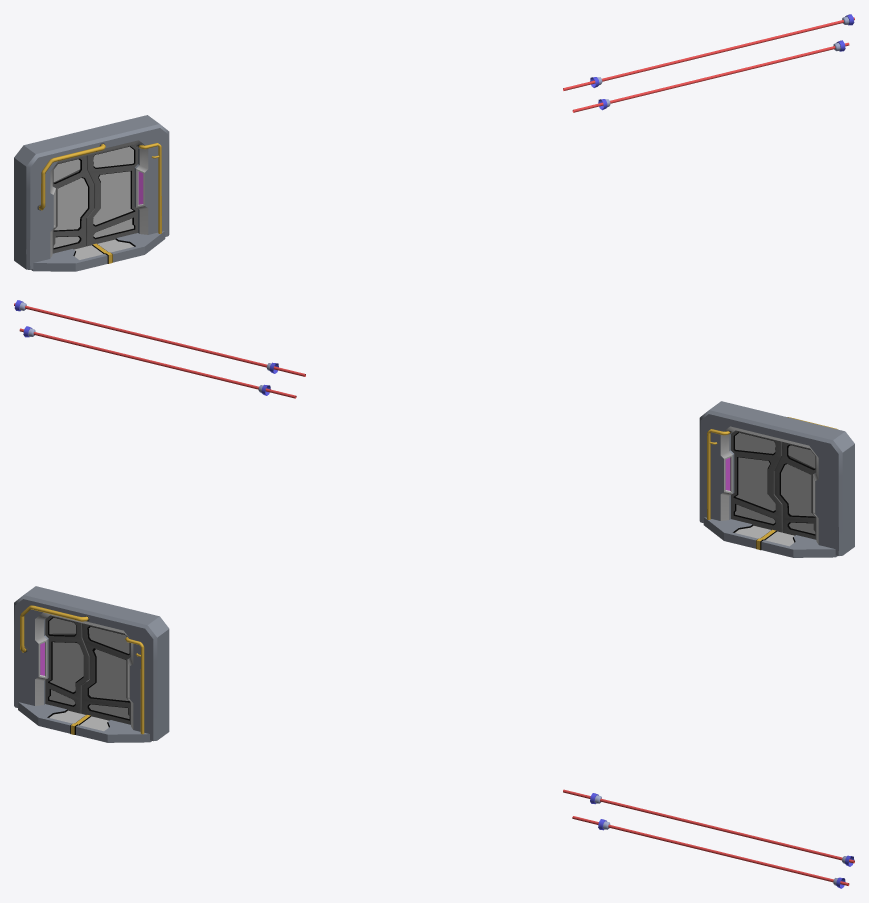
The model's file is Level23_Objects.fbx.
3 renders of one model, top to bottom at view 1: azimuth 30°, elevation 25°; view 2: azimuth 150°, elevation 25°; view 3: azimuth 330°, elevation 25°, orthographic.
Visible parts, largest first — view 1: Base, Right, Left, Base5, Laser (×2), polySurface7; view 2: Base, Right, Left, Base5, Laser (×2); view 3: Base, Right, Left, Base5, Laser (×2).
Part boxes in pixels (left/top/right/bottom): Base: left=14, top=115, right=169, bottom=269; Right: left=86, top=144, right=137, bottom=246; Left: left=52, top=155, right=94, bottom=253; Base5: left=31, top=231, right=165, bottom=271; Laser (×2): left=563, top=17, right=854, bottom=112; polySurface7: left=37, top=143, right=105, bottom=210; Base: left=699, top=401, right=854, bottom=555; Right: left=731, top=430, right=782, bottom=532; Left: left=774, top=441, right=816, bottom=539; Base5: left=703, top=517, right=837, bottom=557; Laser (×2): left=14, top=303, right=305, bottom=398; Base: left=14, top=586, right=169, bottom=741; Right: left=81, top=623, right=130, bottom=724; Left: left=45, top=615, right=89, bottom=713; Base5: left=18, top=702, right=151, bottom=742; Laser (×2): left=563, top=789, right=854, bottom=885.
Size of the model in its own units: 318 by 41.91 by 24.92.
